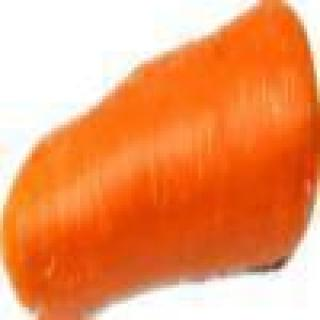Wortel: (5, 8, 315, 315)
